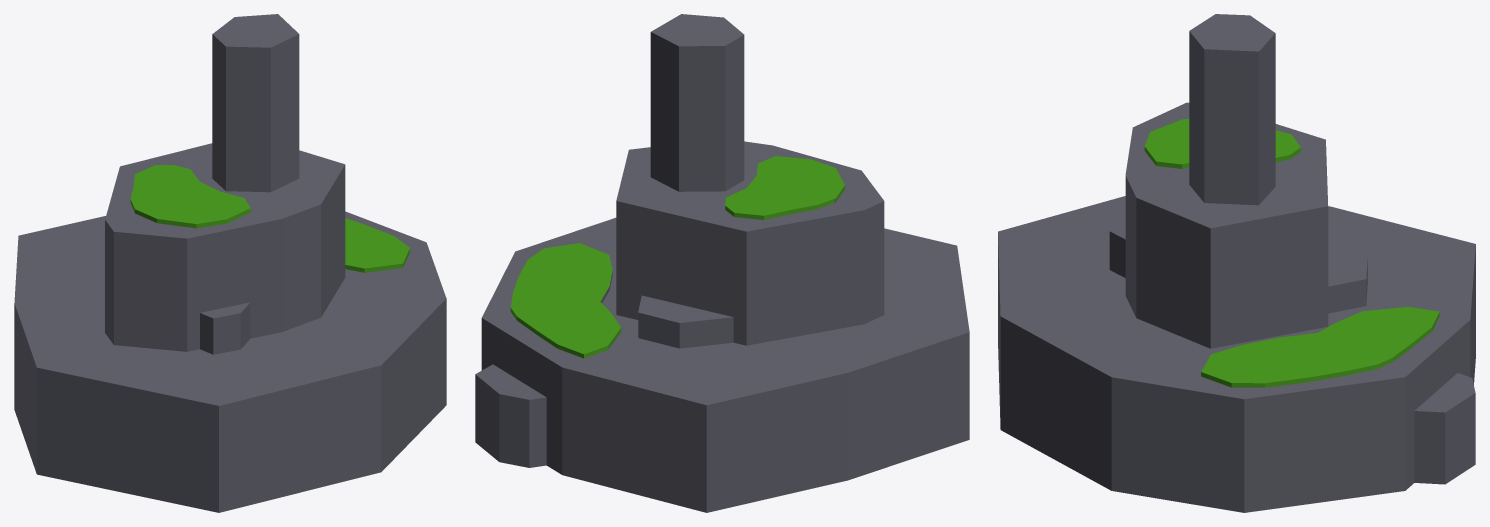
File: Peak1.fbx
3 renders of one model, left to right at view 1: azimuth 30°, elevation 25°; view 2: azimuth 150°, elevation 25°; view 3: azimuth 270°, elevation 25°, orthographic. The views are drawn at different scales.
Visible parts, largest first — view 1: Plane.026; view 2: Plane.026; view 3: Plane.026.
Boxes of the visible parts, left/top/right/bottom form: Plane.026: left=14, top=14, right=446, bottom=512; Plane.026: left=475, top=14, right=969, bottom=512; Plane.026: left=998, top=14, right=1475, bottom=512.
Size of the model in its own units: 77.1 by 63.91 by 71.35.
